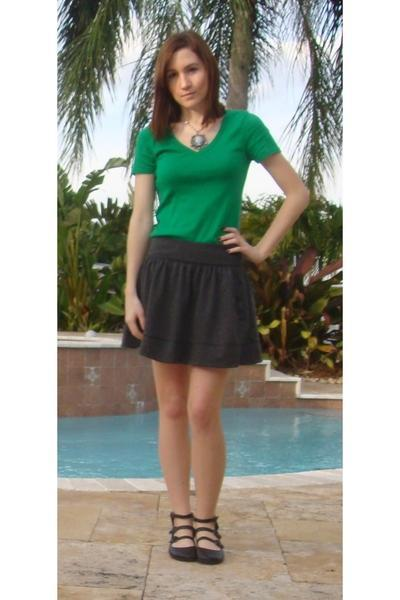shirt: (133, 111, 275, 242)
shoe: (169, 512, 224, 564)
skirt: (118, 228, 272, 369)
